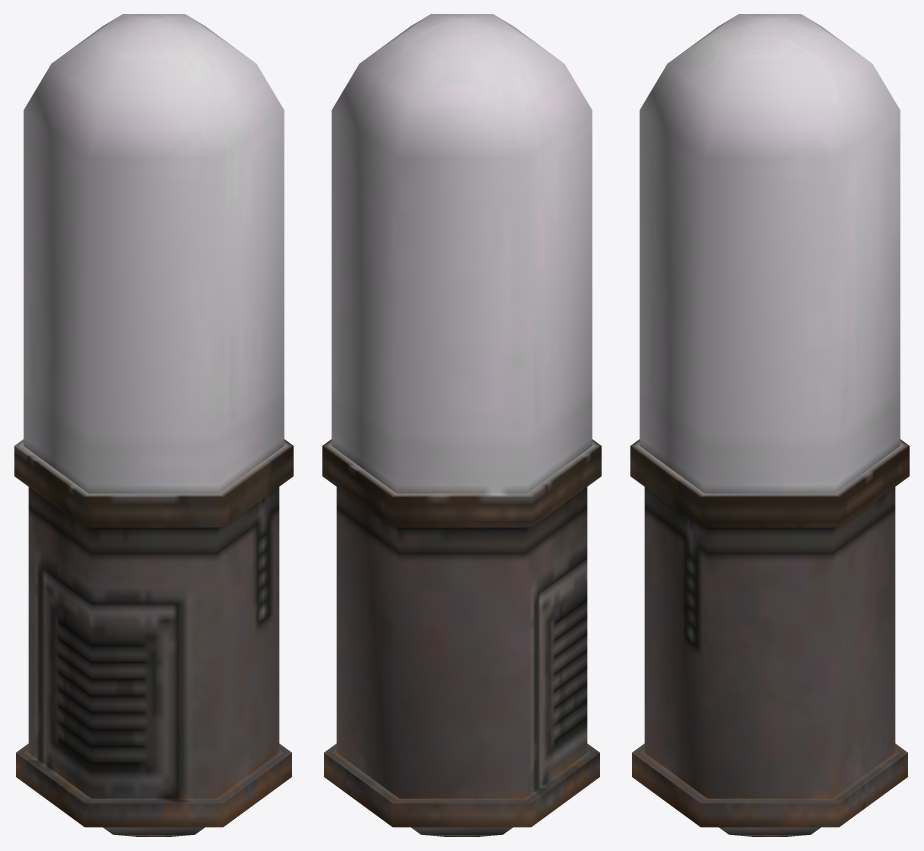
Rendered from eqp_comp_chassis_deed_l1.fbx.
3 renders of one model, left to right at view 1: azimuth 30°, elevation 25°; view 2: azimuth 150°, elevation 25°; view 3: azimuth 270°, elevation 25°, orthographic.
Parts seen in each view (by area): view 1: mesh_node; view 2: mesh_node; view 3: mesh_node.
Part boxes in pixels (x1,y1,x2,y2): mesh_node: [14, 14, 293, 836]; mesh_node: [322, 14, 601, 836]; mesh_node: [630, 14, 909, 836].
Size of the model in its own units: 0.0778 by 0.2851 by 0.0898.
